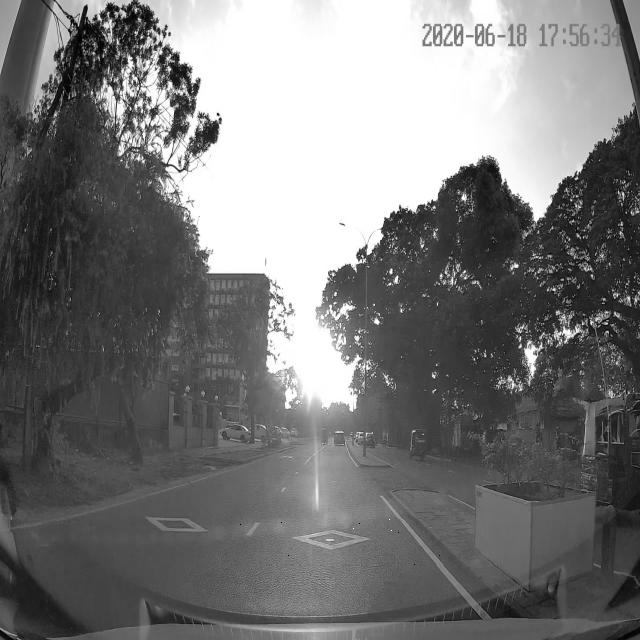diamond: (228, 519, 444, 565)
